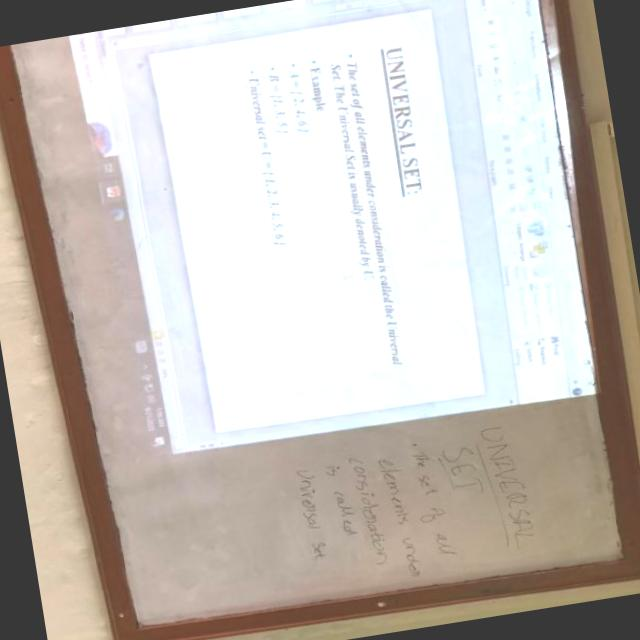Slide: (63, 0, 596, 459)
White-board: (0, 0, 639, 640)
